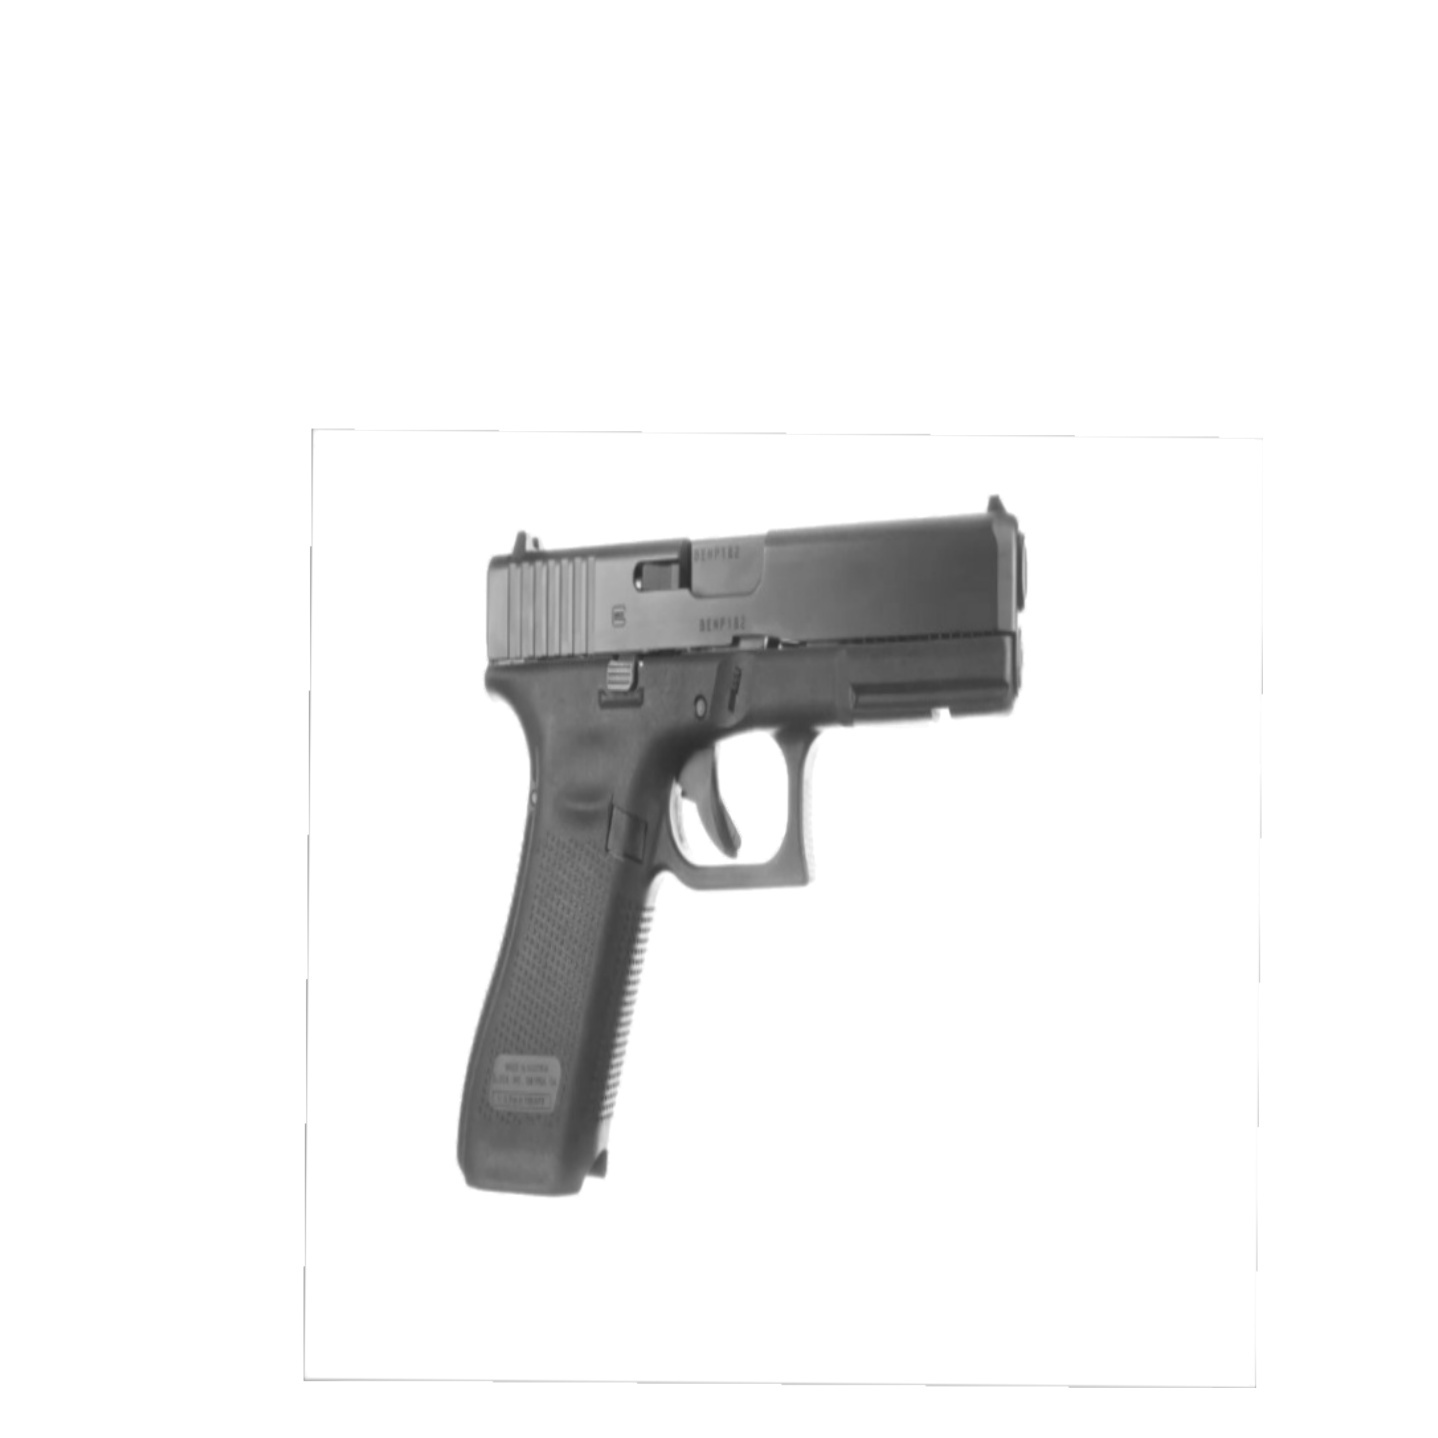gun: (450, 493, 1036, 1197)
